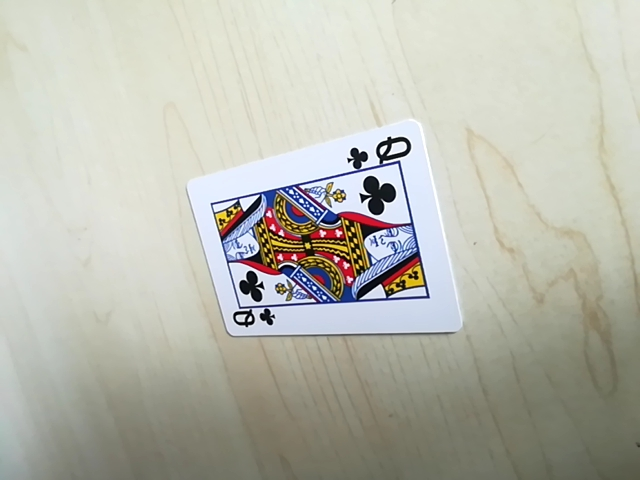mh q: (347, 131, 417, 167), (222, 303, 277, 336)
